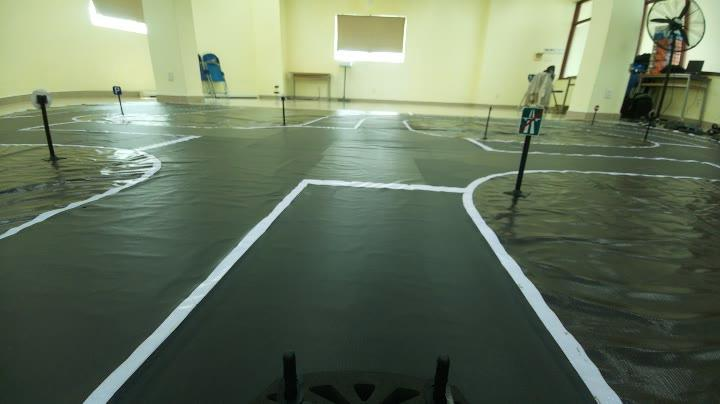highway_exit: (515, 103, 546, 141)
